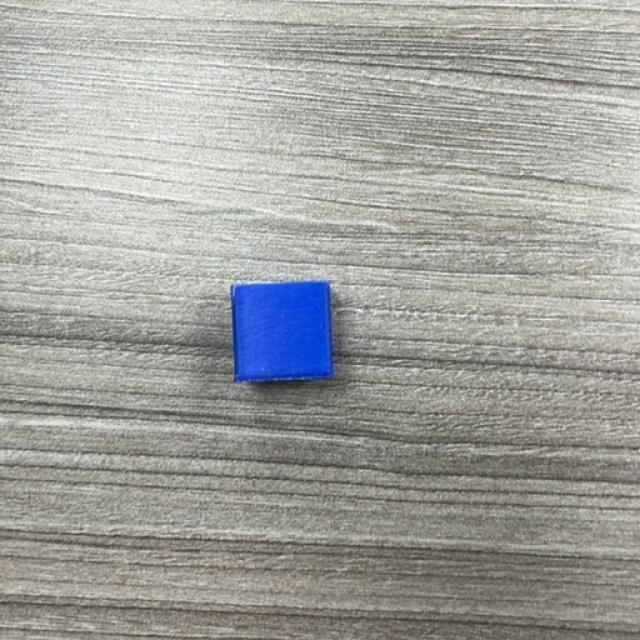Azul: (230, 282, 336, 385)
